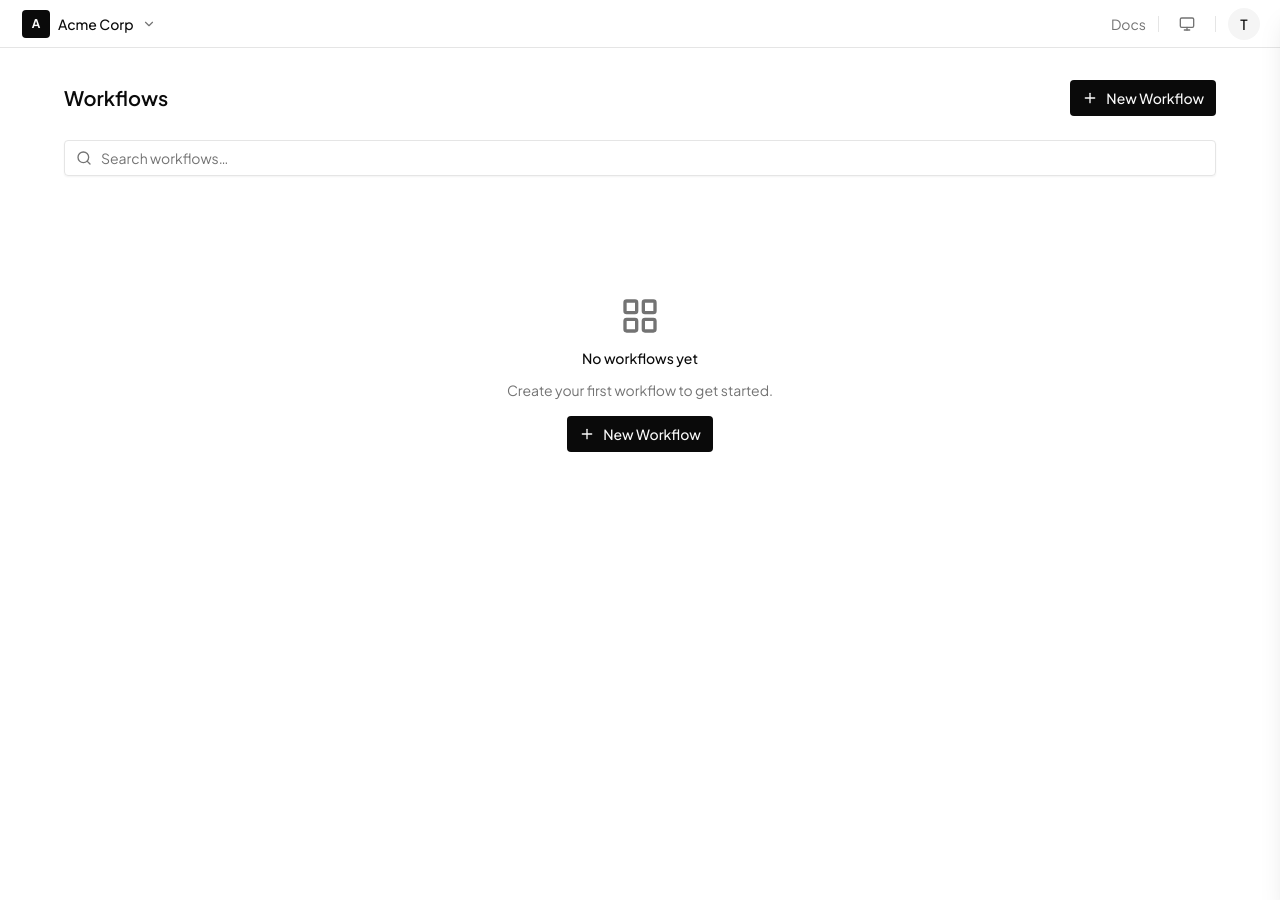
Test case: DashboardPage › opens the New Workflow dialog when the header button is clicked
Check: the text "No workflows yet" is shown, box [582,348,698,368]
Click the 1st button "New Workflow".
click(1143, 98)  # box [1070,80,1216,116]
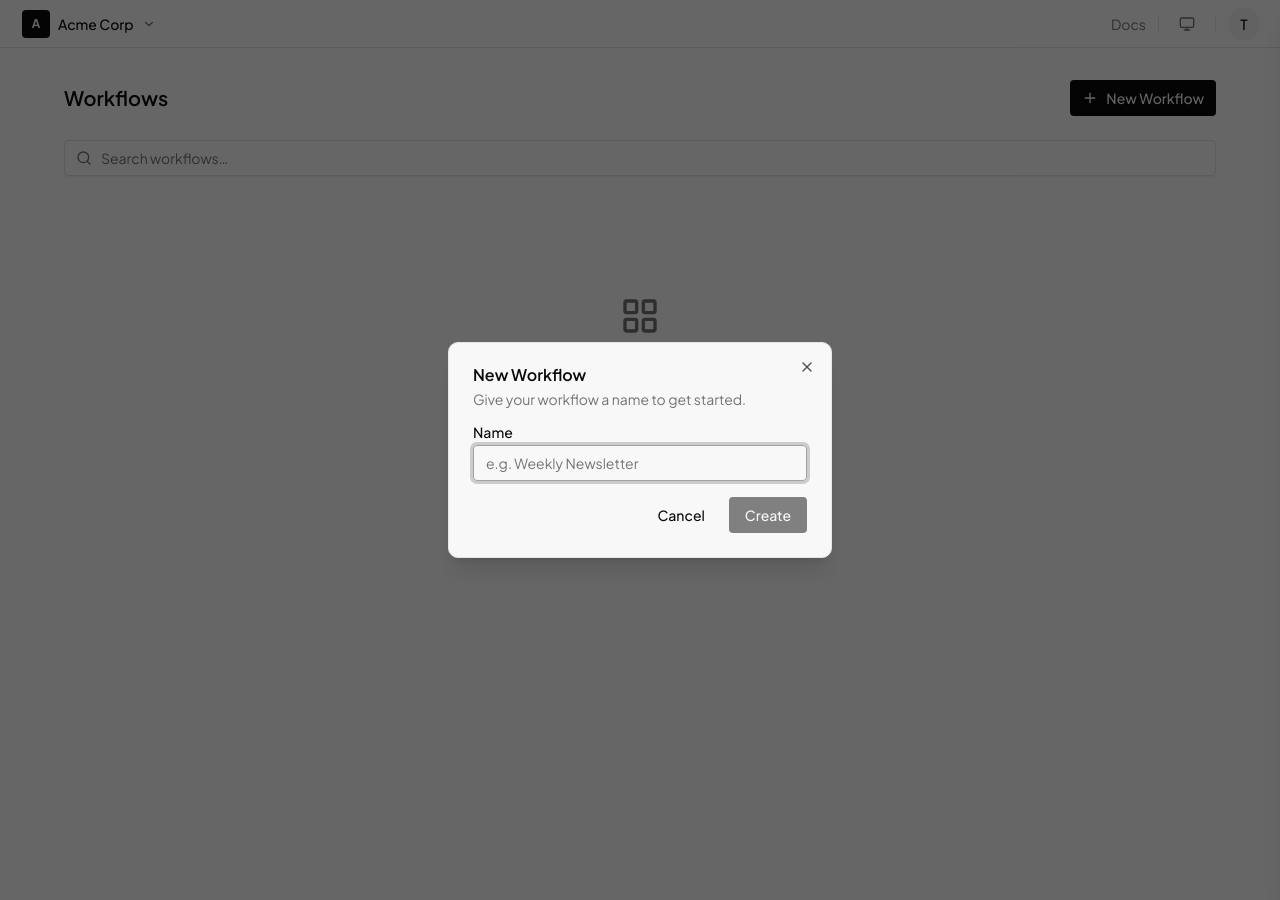
Check: the dialog is shown, box [448,342,832,558]
